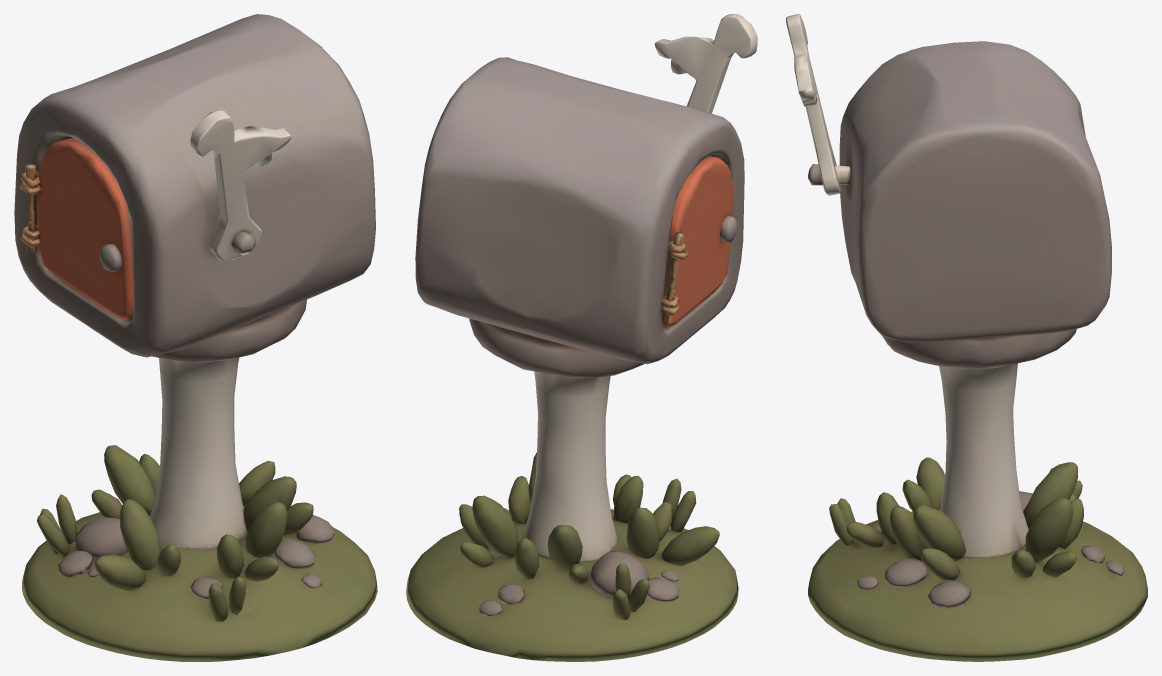
The model's file is bone-mailbox.glb.
The picture shows the model from 3 angles, left to right: view 1: azimuth 30°, elevation 25°; view 2: azimuth 150°, elevation 25°; view 3: azimuth 270°, elevation 25°; orthographic projection. The views are drawn at different scales.
Visible parts, largest first — view 1: Bone Mailbox; view 2: Bone Mailbox; view 3: Bone Mailbox.
Boxes of the visible parts, x1=… form: Bone Mailbox: x1=14, y1=14, x2=377, y2=661; Bone Mailbox: x1=406, y1=14, x2=757, y2=661; Bone Mailbox: x1=786, y1=14, x2=1147, y2=661.
Size of the model in its own units: 0.5684 by 0.998 by 0.6074.
1 material, 1 textured.
